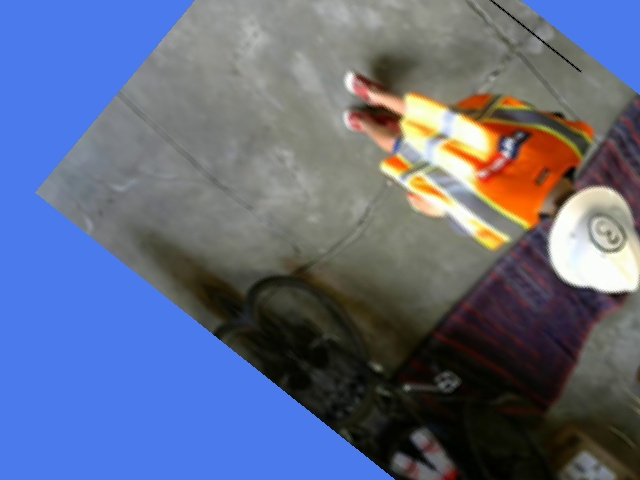three: (580, 207, 631, 262)
